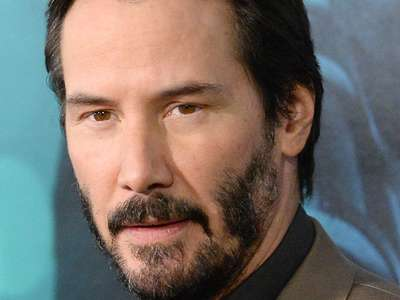NoMask: (65, 73, 246, 296)
